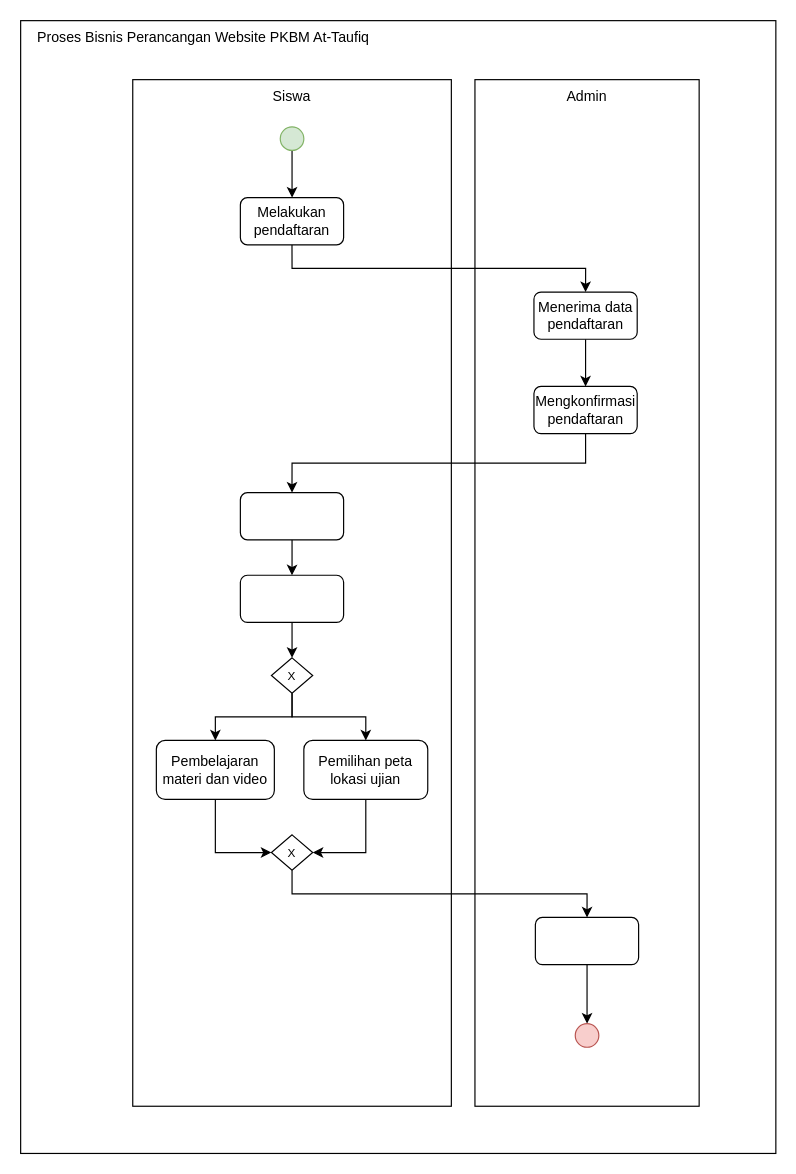
Image size: 796x1174. Some labels were removed from this diagram. The box of each missing label's shape, as (x1, y1, x2, y2) in pixels:
Login website PKBM: (239, 491, 344, 540)
Menampilkan halaman yang dipilih: (534, 916, 639, 965)
Mengakses halaman yang dipilih: (239, 574, 344, 622)
